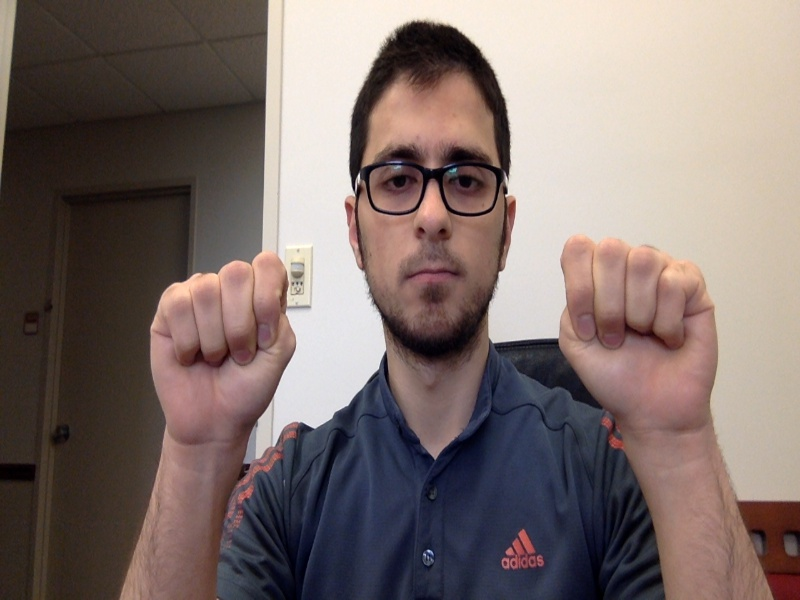0-hand: (562, 238, 718, 437), (149, 253, 298, 445)
